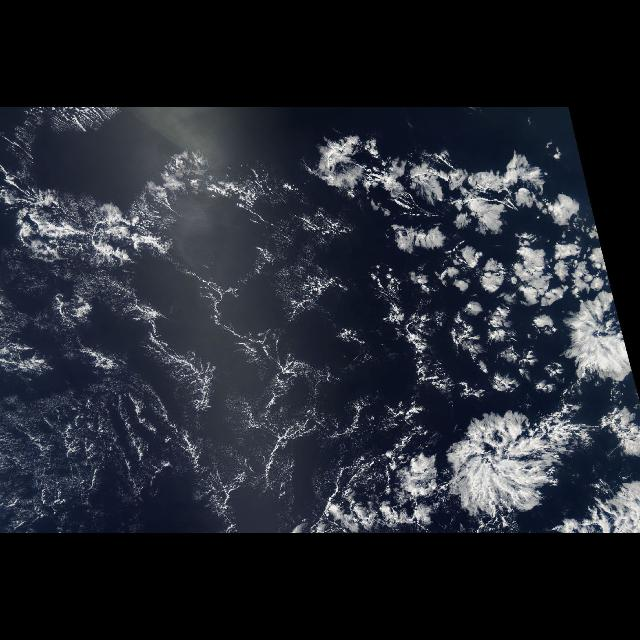Flower: (305, 120, 639, 532)
Sugar: (0, 383, 204, 533)
